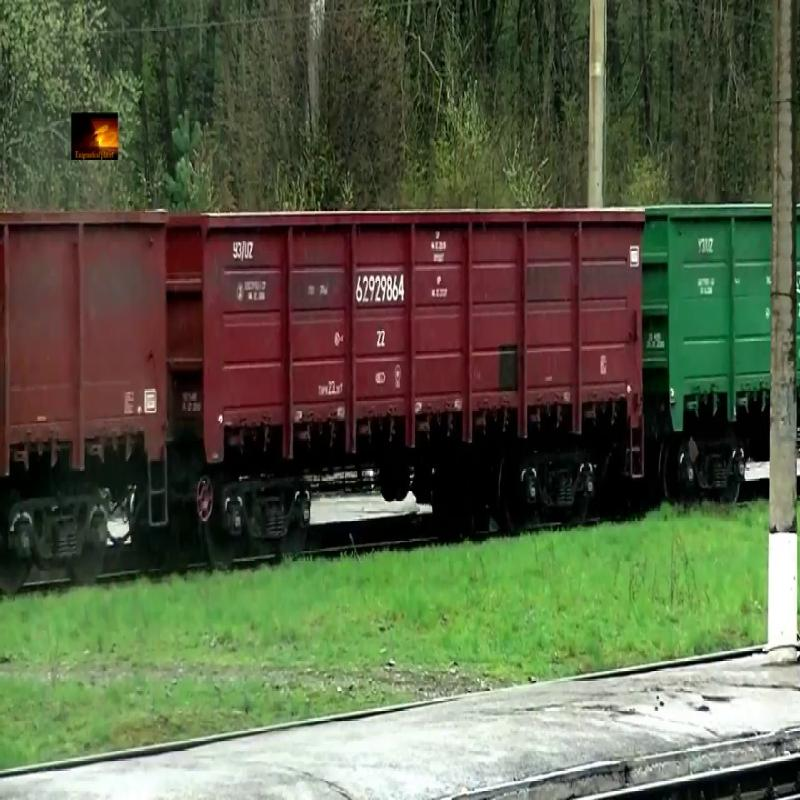train: (172, 206, 648, 469), (1, 212, 171, 482), (643, 205, 771, 431)
